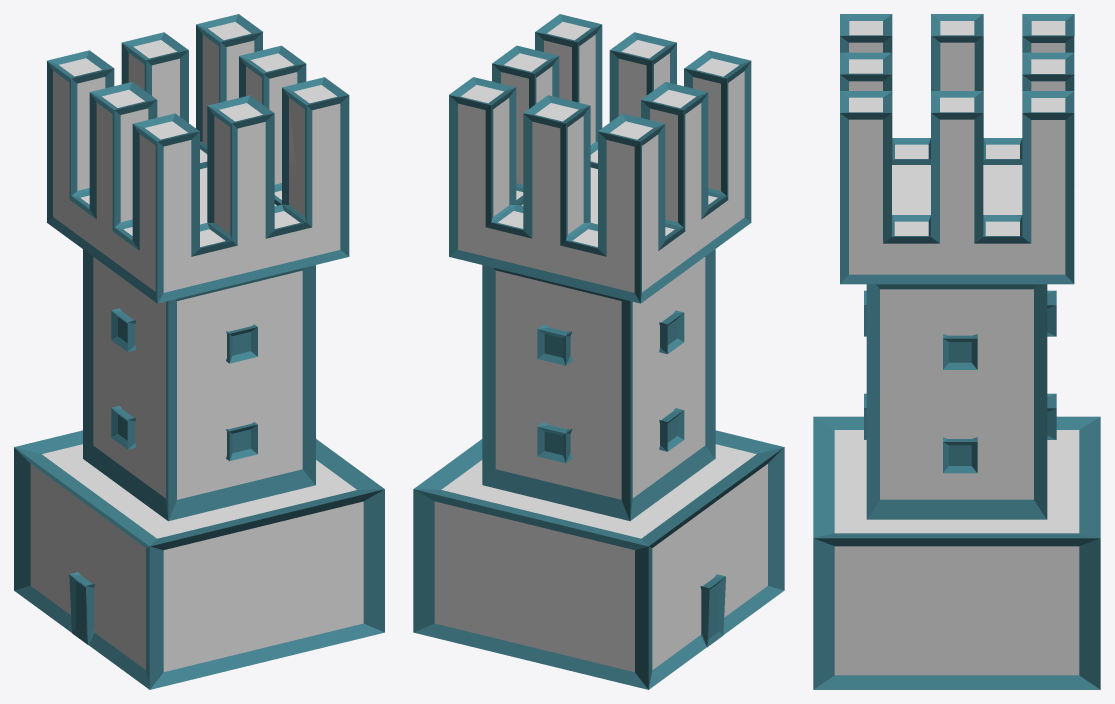
File: icon.gltf
The picture shows the model from 3 angles, left to right: view 1: azimuth 30°, elevation 25°; view 2: azimuth 150°, elevation 25°; view 3: azimuth 270°, elevation 25°; orthographic projection. The views are drawn at different scales.
Parts seen in each view (by area): view 1: W, Base, Tower, Door, WindowRightTop, WindowRightBottom, WindowFrontTop, WindowFrontBottom; view 2: W, Base, Tower, Door, WindowLeftBottom, WindowLeftTop, WindowFrontTop, WindowFrontBottom; view 3: Base, W, Tower, WindowBackBottom, WindowBackTop, WindowLeftTop, WindowLeftBottom.
Part boxes in pixels (left/top/right/bottom): W: left=47, top=14, right=349, bottom=303; Base: left=14, top=430, right=384, bottom=689; Tower: left=83, top=249, right=315, bottom=521; Door: left=69, top=572, right=94, bottom=644; WindowRightTop: left=226, top=324, right=257, bottom=363; WindowRightBottom: left=226, top=422, right=257, bottom=461; WindowFrontTop: left=111, top=308, right=136, bottom=351; WindowFrontBottom: left=111, top=406, right=136, bottom=449; W: left=449, top=14, right=751, bottom=303; Base: left=413, top=430, right=784, bottom=689; Tower: left=482, top=249, right=715, bottom=520; Door: left=700, top=574, right=725, bottom=647; WindowLeftBottom: left=537, top=422, right=572, bottom=463; WindowLeftTop: left=537, top=324, right=572, bottom=365; WindowFrontTop: left=659, top=310, right=684, bottom=354; WindowFrontBottom: left=659, top=408, right=684, bottom=451; Base: left=813, top=416, right=1100, bottom=689; W: left=840, top=14, right=1074, bottom=284; Tower: left=866, top=284, right=1047, bottom=519; WindowBackBottom: left=943, top=437, right=977, bottom=473; WindowBackTop: left=943, top=334, right=977, bottom=369; WindowLeftTop: left=1047, top=290, right=1056, bottom=336; WindowLeftBottom: left=1047, top=393, right=1056, bottom=439.
Size of the model in its own units: 25.53 by 54.74 by 25.22.
